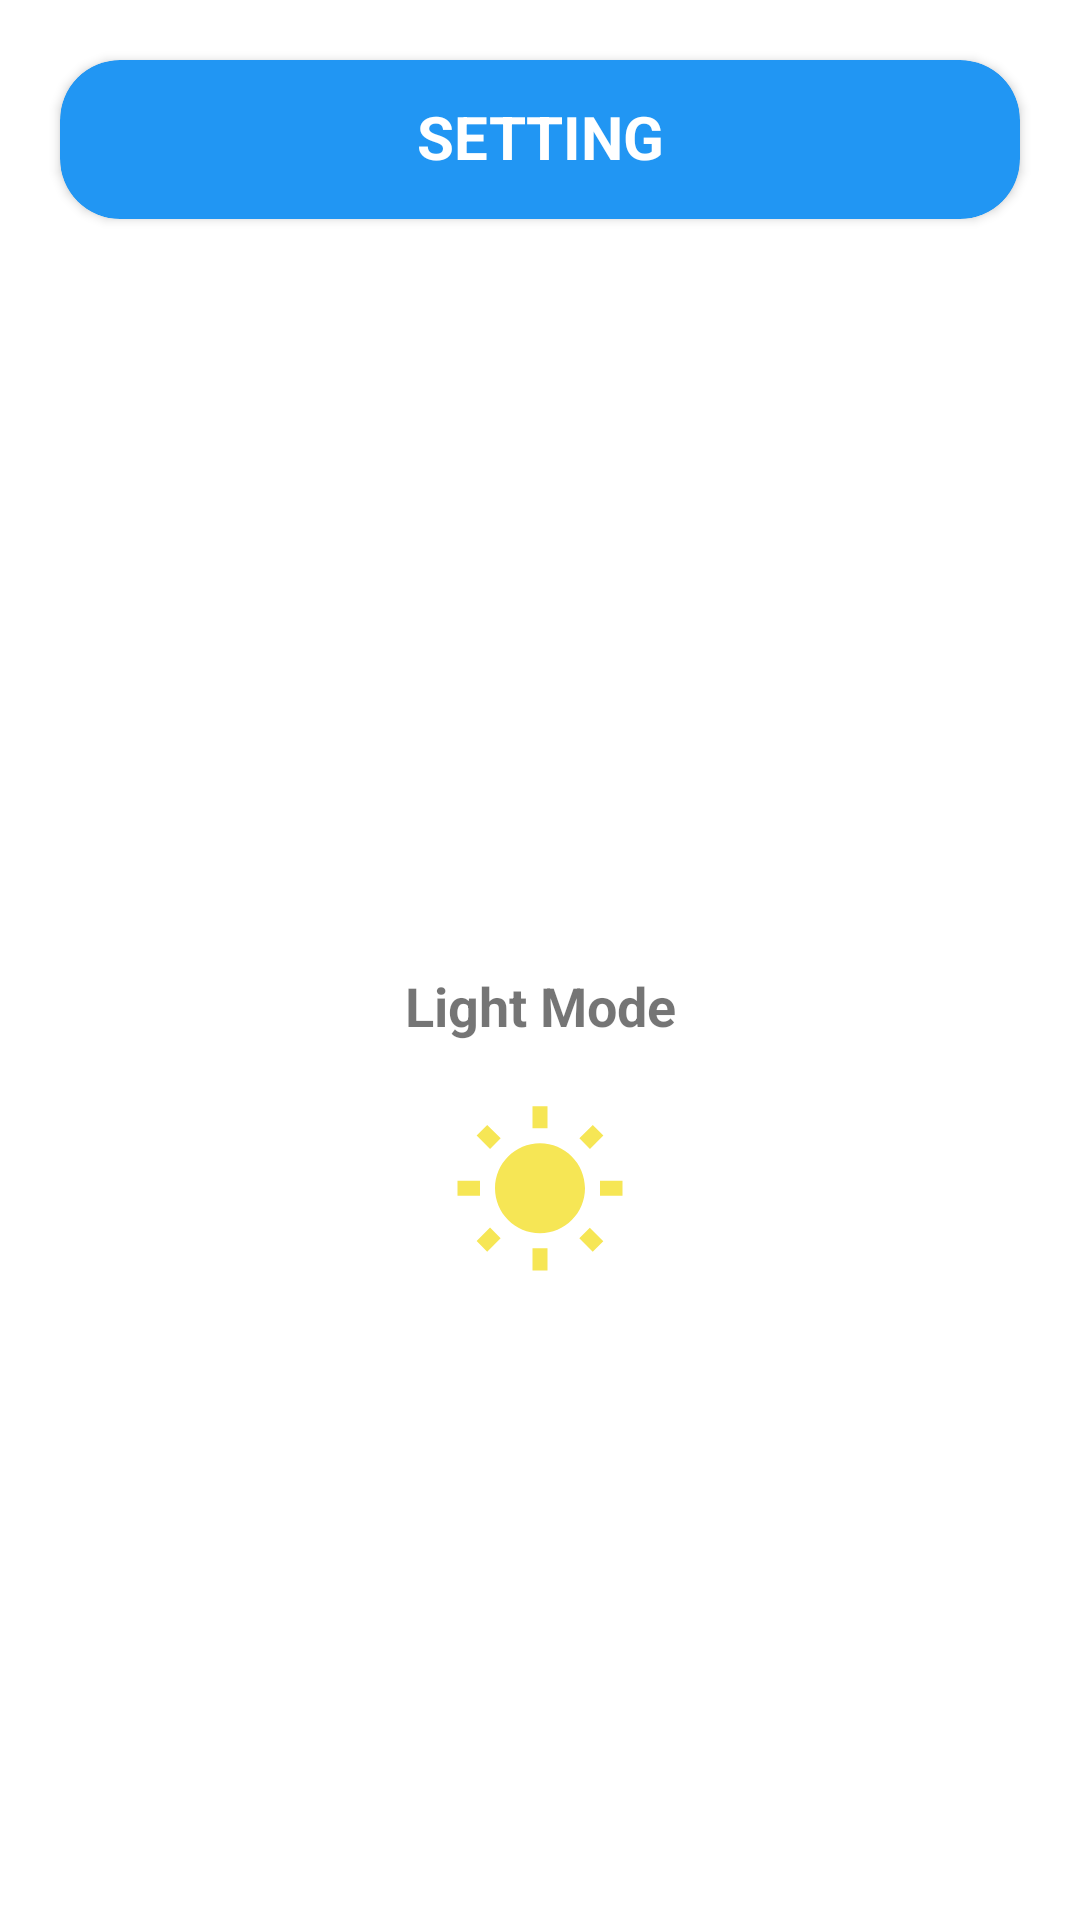

Where icons sit on this 1080*1920 app screen, as (x1, y1, x2, y2):
sunny: (457, 1106, 623, 1271)
